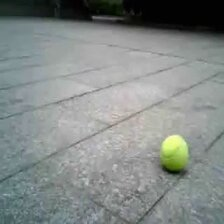tennis: (162, 135, 187, 169)
